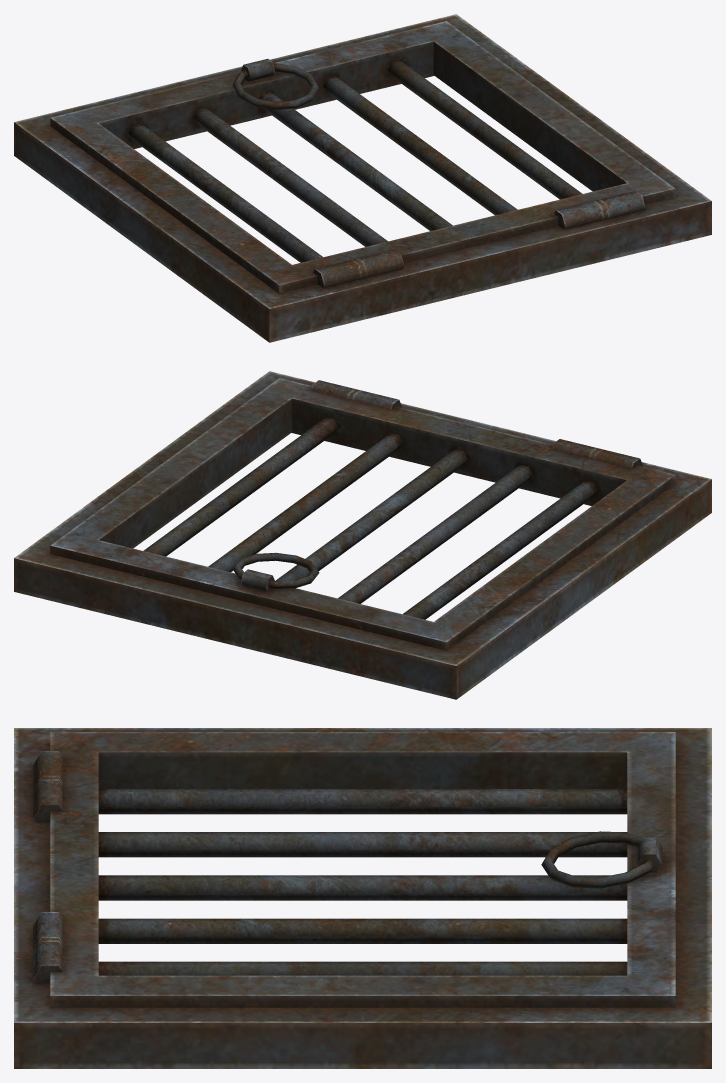
The model's file is hatch_metal01.dae.
3 views of the same model, one above another, from view 1: azimuth 30°, elevation 25°; view 2: azimuth 150°, elevation 25°; view 3: azimuth 270°, elevation 25° (orthographic). The views are drawn at different scales.
Visible parts, largest first — view 1: MetalHatch02_PIVOT, MetalHatch01; view 2: MetalHatch02_PIVOT, MetalHatch01; view 3: MetalHatch02_PIVOT, MetalHatch01.
Boxes of the visible parts, <box> form: MetalHatch02_PIVOT: <box>50,21,675,293</box>; MetalHatch01: <box>14,14,711,342</box>; MetalHatch02_PIVOT: <box>50,378,675,650</box>; MetalHatch01: <box>14,371,711,699</box>; MetalHatch02_PIVOT: <box>33,732,675,1007</box>; MetalHatch01: <box>14,728,711,1068</box>.
Bounding box in the file's own units: 1.1 × 1.1 × 0.131.
Materials: 1 (1 with a texture image).
